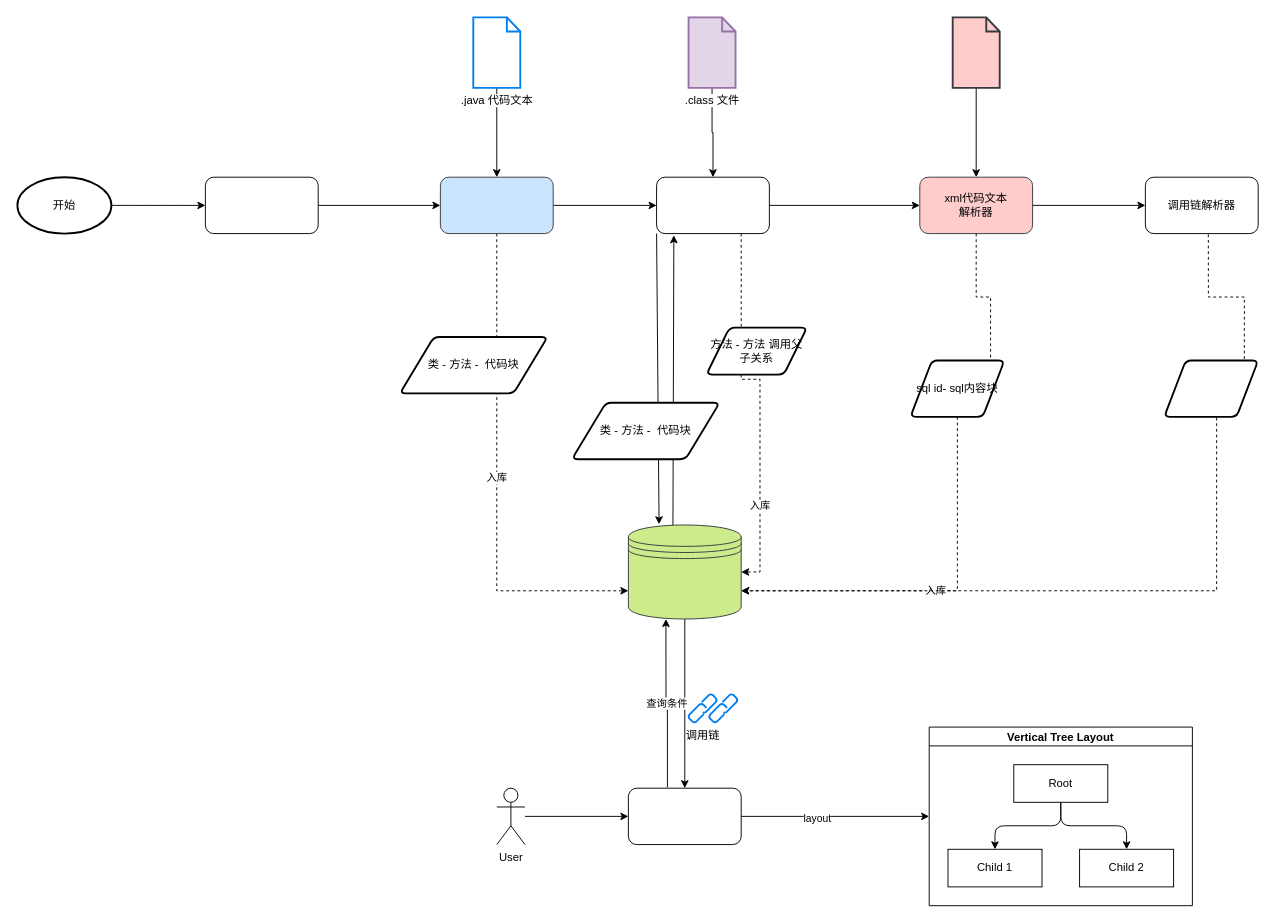
Some shapes in this 1275 by 922 pixel diagram are drawn without their labels. The centre of each missing label's shape, as x and y in pixels:
"java 函数引用解析器" belongs at (712,205).
"java代码文本 解析器" belongs at (496,205).
"sql mxl文本" belongs at (975,52).
"储存" belongs at (684,571).
"加载解析目标 class目录 jar包路径" belongs at (261,205).
"查询调用关系" belongs at (684,816).
"调用节点父子关系" belongs at (1211,388).
